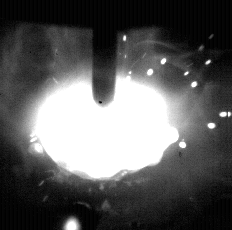arame: (93, 0, 117, 106)
poca: (34, 0, 169, 230)
